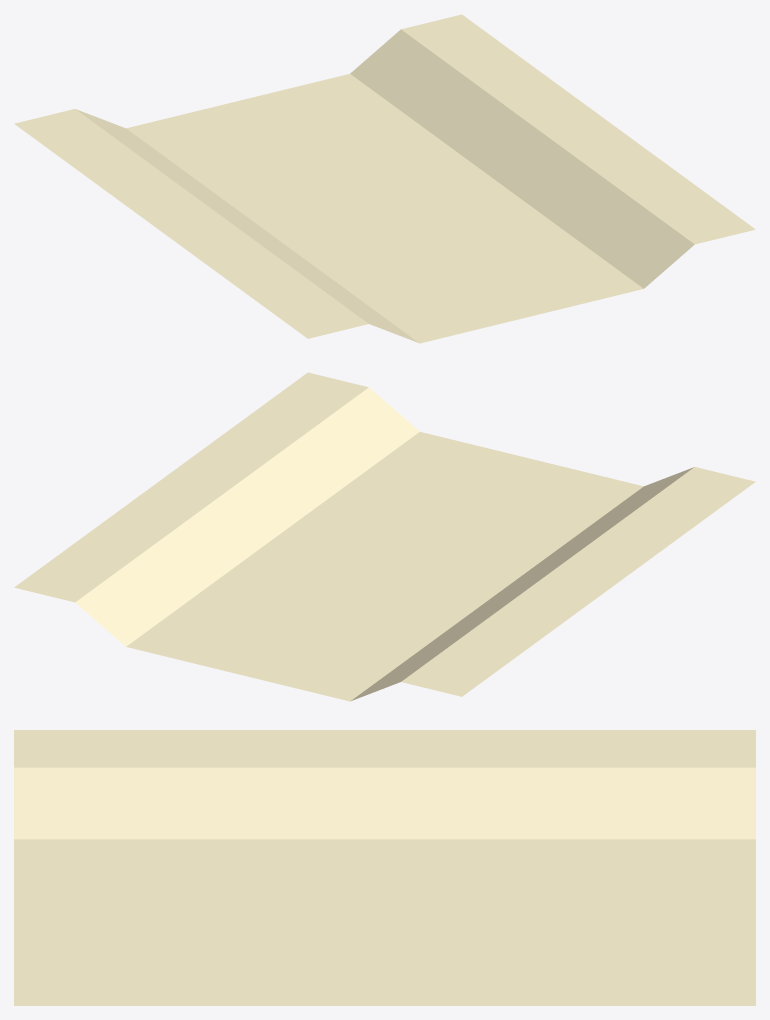
The model's file is ground.glb.
The picture shows the model from 3 angles, top to bottom: view 1: azimuth 30°, elevation 25°; view 2: azimuth 150°, elevation 25°; view 3: azimuth 270°, elevation 25°; orthographic projection. The views are drawn at different scales.
Visible parts, largest first — view 1: Piste, BankR, ShoulderR, ShoulderL, BankL; view 2: Piste, BankR, ShoulderR, ShoulderL, BankL; view 3: Piste, BankL, ShoulderR, ShoulderL.
Part boxes in pixels (box(x1,y1,x2,y2)): Piste: box(126, 74, 643, 343); BankR: box(350, 29, 694, 288); ShoulderR: box(401, 14, 755, 244); ShoulderL: box(14, 109, 368, 338); BankL: box(76, 109, 419, 343); Piste: box(126, 432, 643, 701); BankR: box(75, 387, 419, 646); ShoulderR: box(14, 372, 368, 602); ShoulderL: box(401, 467, 755, 696); BankL: box(350, 467, 693, 701); Piste: box(14, 839, 755, 968); BankL: box(14, 767, 755, 839); ShoulderR: box(14, 968, 755, 1005); ShoulderL: box(14, 730, 755, 767).
Size of the model in its own units: 22 by 1.5 by 25.
